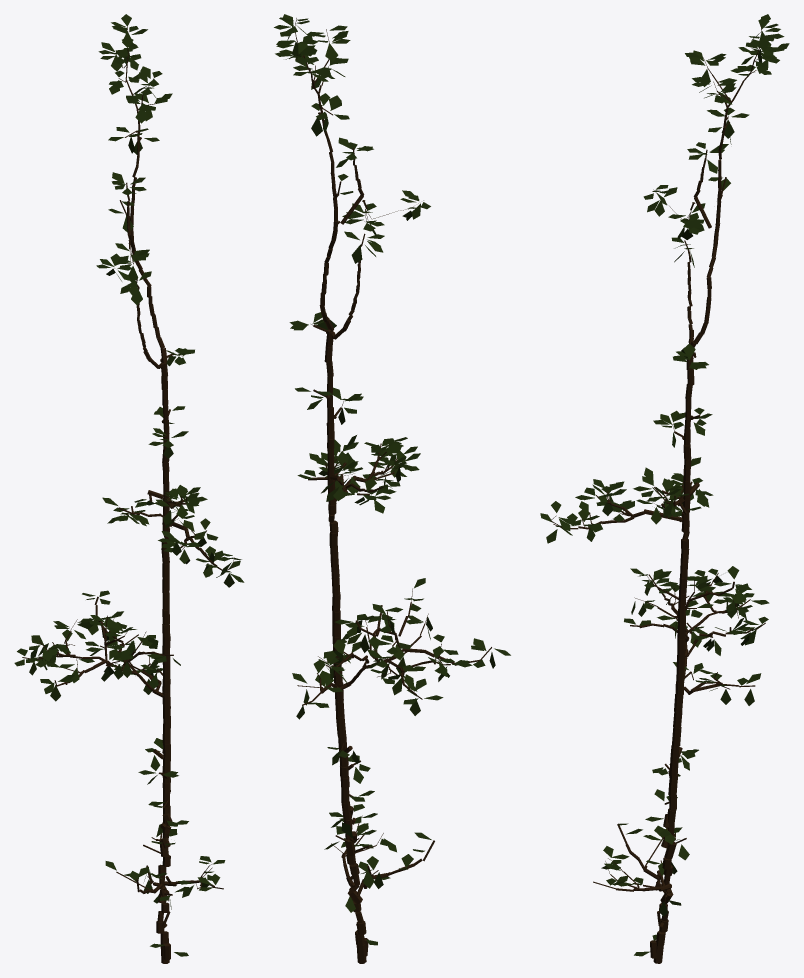
File: tree_248.obj
3 views of the same model, side by side, from view 1: azimuth 30°, elevation 25°; view 2: azimuth 150°, elevation 25°; view 3: azimuth 270°, elevation 25° (orthographic). The views are drawn at different scales.
Visible parts, largest first — view 1: Leaves, TrunkAndBranches; view 2: Leaves, TrunkAndBranches; view 3: Leaves, TrunkAndBranches.
Part boxes in pixels (x1,y1,x2,y2): Leaves: [14, 14, 244, 956]; TrunkAndBranches: [22, 25, 234, 963]; Leaves: [274, 14, 510, 945]; TrunkAndBranches: [295, 18, 491, 963]; Leaves: [540, 14, 789, 956]; TrunkAndBranches: [550, 25, 765, 963].
Size of the model in its own units: 3.11 by 15.17 by 3.62.
